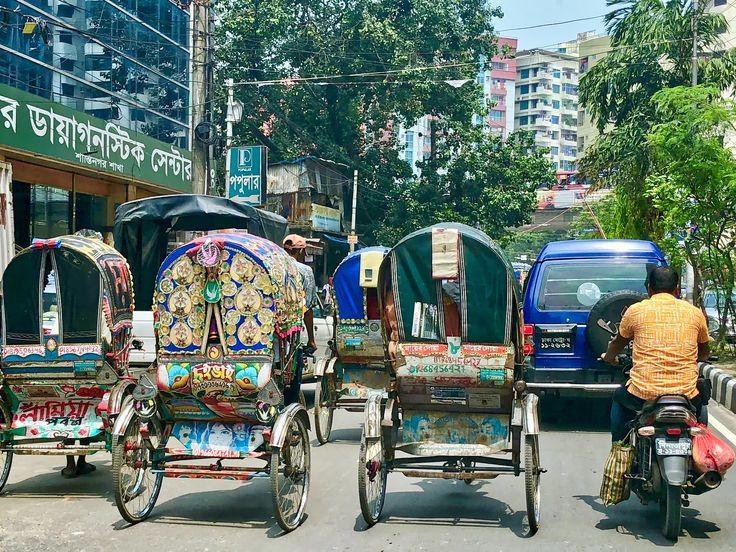Rickshaw: (113, 233, 309, 530), (358, 223, 541, 533), (0, 235, 134, 487), (314, 247, 388, 443)
